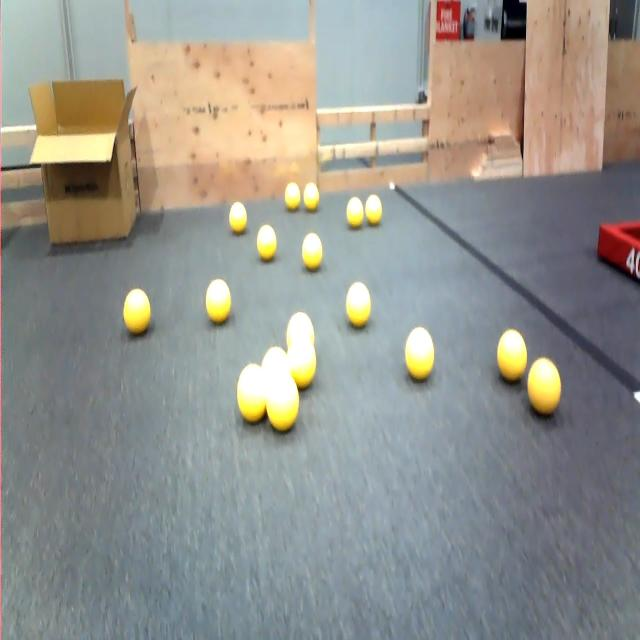fuel: (266, 371, 299, 431), (528, 359, 561, 415), (237, 364, 265, 423), (497, 329, 527, 382), (405, 327, 434, 380), (288, 338, 316, 389), (123, 288, 150, 335), (346, 282, 372, 328), (206, 279, 231, 323), (286, 312, 314, 348), (302, 232, 322, 271), (262, 346, 288, 376), (257, 224, 277, 261), (229, 202, 247, 234), (346, 197, 363, 228), (365, 194, 382, 225), (303, 183, 319, 211), (285, 183, 300, 210)
